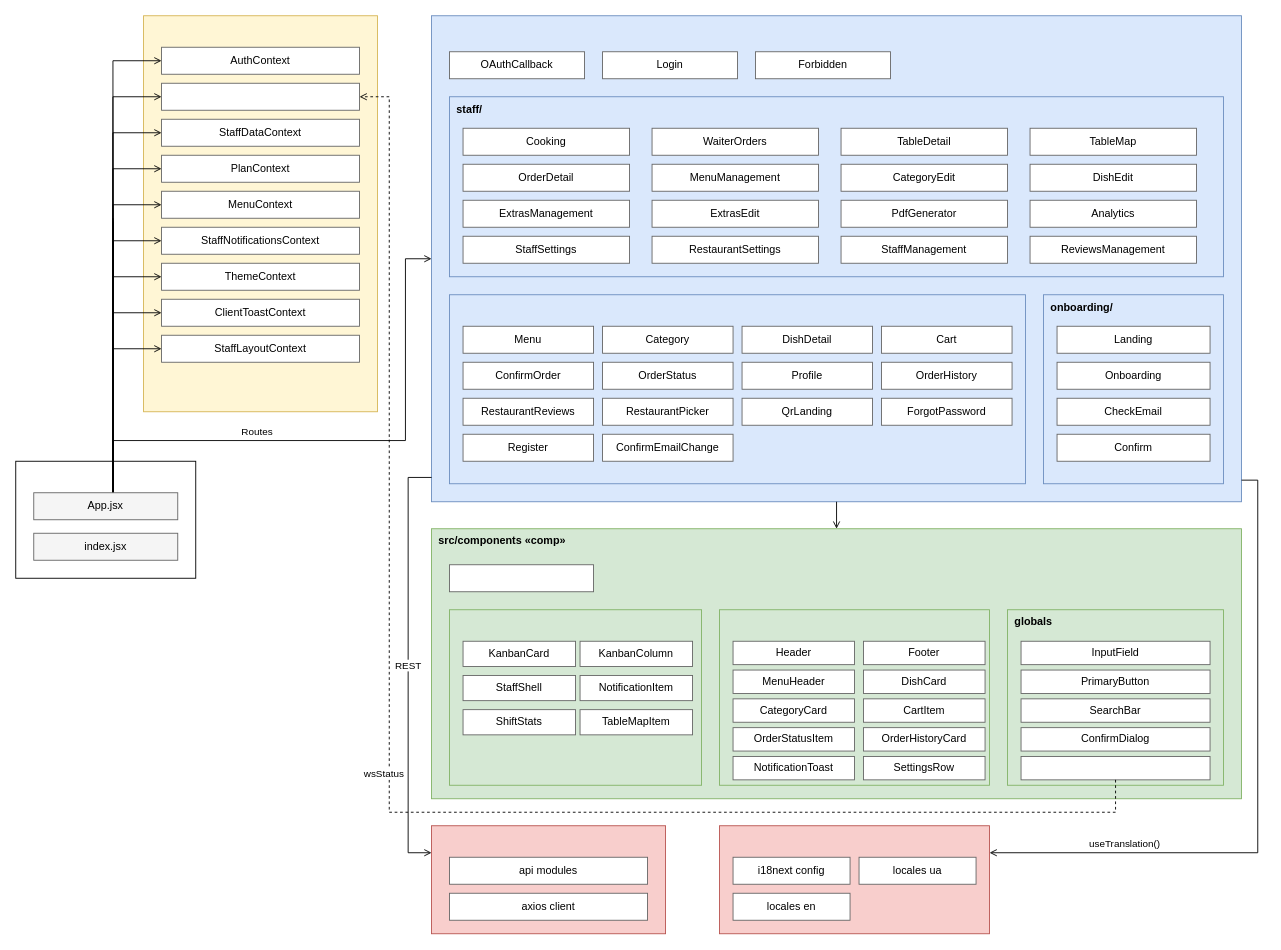
Some shapes in this 1281 by 950 pixel diagram are drawn without their labels. The shapes that lost their labels are listed below. From the top down, each one's box as (x1, y1, x2, y2) in pixels, then its label:
(161, 82, 360, 110): AppContext
(143, 15, 378, 412): src/context «ctx»
(431, 15, 1242, 502): src/pages «pages»
(449, 294, 1026, 484): client/
(15, 460, 196, 578): Кореневі файли
(449, 564, 594, 592): ProtectedRoute
(449, 609, 702, 785): staff components
(719, 609, 990, 785): client components
(1020, 756, 1210, 780): WsStatusBanner
(431, 825, 666, 934): src/api «infra»
(719, 825, 990, 934): src/i18n «infra»
